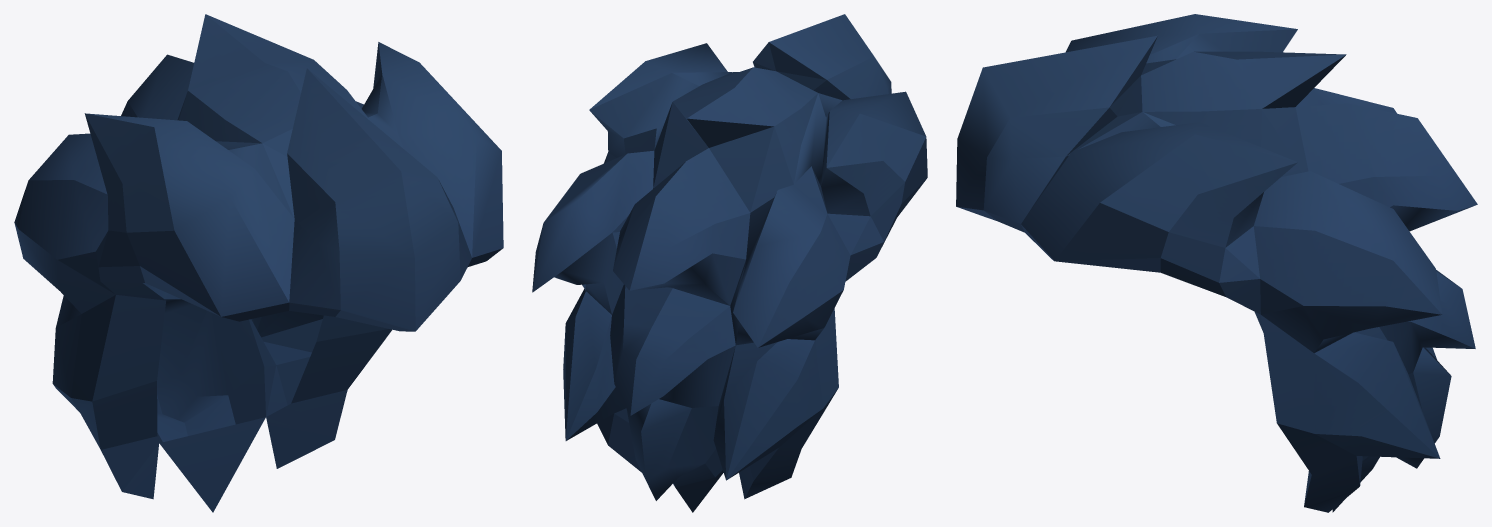
Rendered from Hair_Blue_19.fbx.
3 renders of one model, left to right at view 1: azimuth 30°, elevation 25°; view 2: azimuth 150°, elevation 25°; view 3: azimuth 270°, elevation 25°, orthographic. The views are drawn at different scales.
Parts seen in each view (by area): view 1: Hair_Blue_19; view 2: Hair_Blue_19; view 3: Hair_Blue_19.
Part boxes in pixels (x1,y1,x2,y2): Hair_Blue_19: (14,14,503,512); Hair_Blue_19: (532,14,927,512); Hair_Blue_19: (956,14,1477,512).
Bounding box in the file's own units: 47.08 × 65.84 × 65.25.
